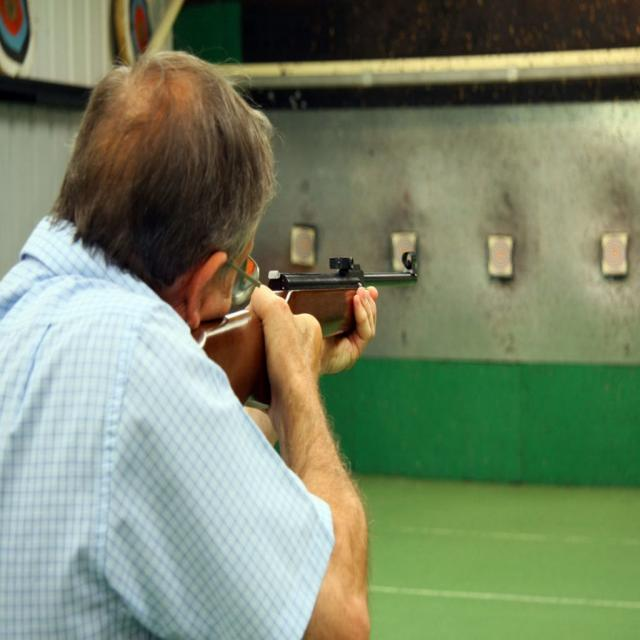weapon: (189, 248, 418, 407)
